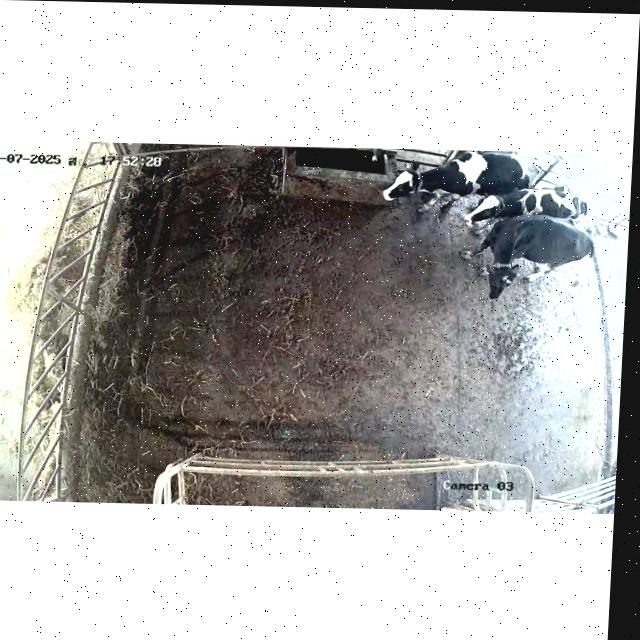stand: (461, 214, 595, 300), (382, 151, 542, 211), (462, 186, 587, 227)
